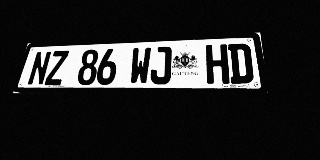6: (95, 48, 119, 85)
8: (76, 49, 100, 85)
D: (228, 43, 254, 84)
H: (206, 44, 230, 84)
J: (150, 46, 172, 84)
N: (27, 51, 52, 86)
W: (129, 47, 151, 85)
Z: (44, 50, 69, 85)
